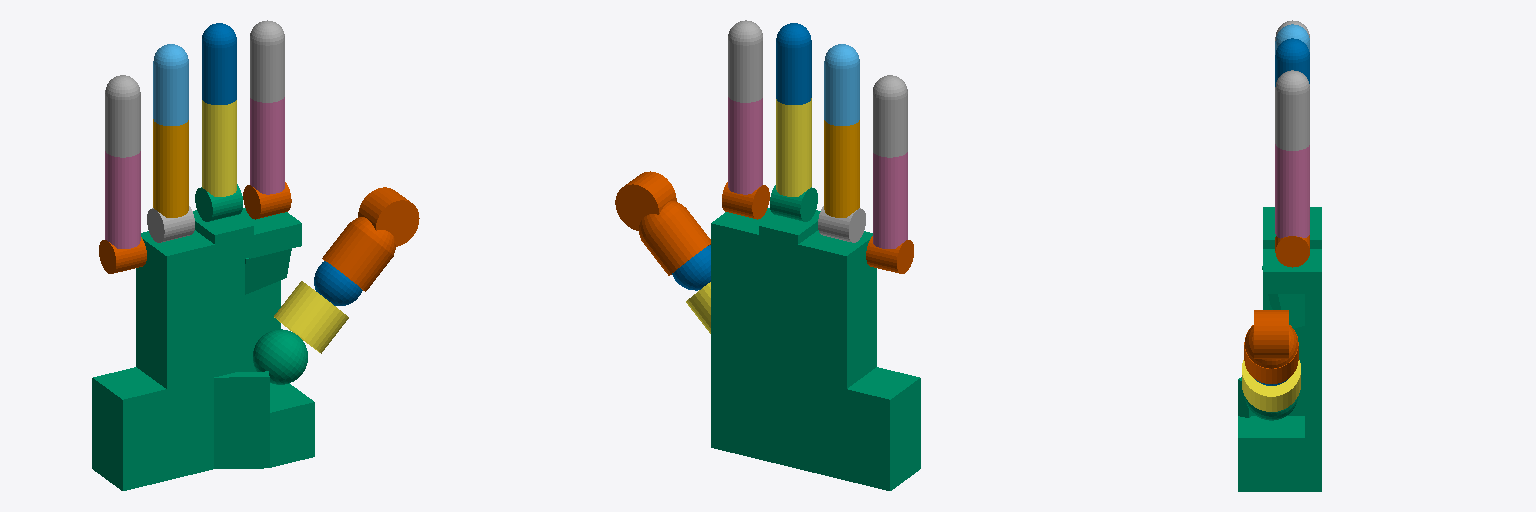
--- Render facts (derived) ---
3 views of the same robot in one strip: view 1: azimuth 30°, elevation 25°; view 2: azimuth 150°, elevation 25°; view 3: azimuth 270°, elevation 25° (orthographic).
Robot: bimanual_shadowhand_motor — 32 links, 31 joints (22 revolute, 9 fixed); root link world; default pose: every joint at zero.
Visible links, largest first — view 1: palm, thmiddle, rfproximal, lfproximal, mfproximal, ffproximal, thproximal, rfmiddle, lfmiddle, ffmiddle, mfmiddle, thbase (+5 smaller); view 2: palm, thmiddle, rfproximal, mfproximal, ffproximal, lfproximal, mfmiddle, rfmiddle, lfmiddle, ffmiddle, mfknuckle, lfknuckle (+4 smaller); view 3: palm, thmiddle, ffproximal, ffmiddle, thproximal, mfmiddle, ffknuckle.
Boxes of the visible links, bbox=[...] form: palm: bbox=[92, 208, 314, 490]; thmiddle: bbox=[322, 187, 419, 291]; rfproximal: bbox=[153, 119, 188, 217]; lfproximal: bbox=[105, 151, 140, 248]; mfproximal: bbox=[202, 100, 236, 196]; ffproximal: bbox=[250, 97, 284, 194]; thproximal: bbox=[274, 281, 348, 353]; rfmiddle: bbox=[153, 44, 188, 125]; lfmiddle: bbox=[105, 75, 140, 157]; ffmiddle: bbox=[250, 20, 284, 102]; mfmiddle: bbox=[202, 23, 236, 104]; thbase: bbox=[253, 329, 307, 384]; palm: bbox=[711, 208, 920, 490]; thmiddle: bbox=[615, 171, 710, 275]; rfproximal: bbox=[824, 120, 859, 217]; mfproximal: bbox=[776, 98, 811, 196]; ffproximal: bbox=[728, 97, 762, 194]; lfproximal: bbox=[873, 152, 907, 248]; mfmiddle: bbox=[776, 23, 811, 104]; rfmiddle: bbox=[824, 44, 859, 125]; lfmiddle: bbox=[873, 75, 907, 157]; ffmiddle: bbox=[728, 20, 762, 102]; mfknuckle: bbox=[770, 185, 817, 221]; lfknuckle: bbox=[866, 236, 913, 273]; palm: bbox=[1238, 207, 1321, 491]; thmiddle: bbox=[1244, 310, 1298, 383]; ffproximal: bbox=[1275, 144, 1309, 238]; ffmiddle: bbox=[1275, 70, 1309, 150]; thproximal: bbox=[1242, 360, 1300, 411]; mfmiddle: bbox=[1275, 38, 1309, 86]; ffknuckle: bbox=[1275, 235, 1309, 267].
Size in the robot's own frame: 0.1335 by 0.0343 by 0.187 metres.
Meshes: 3 distinct files referenced, 0 mesh visuals loaded (none loaded); not drawn: 6 (reference not matched to a file when rendering).

robot.urdf — bimanual_shadowhand_motor:
<?xml version="1.0" encoding="utf-8"?>
<!--
 Software License Agreement (BSD License)
 Copyright © 2022 belongs to Shadow Robot Company Ltd.
 All rights reserved.
 Redistribution and use in source and binary forms, with or without modification,
 are permitted provided that the following conditions are met:
   1. Redistributions of source code must retain the above copyright notice,
      this list of conditions and the following disclaimer.
   2. Redistributions in binary form must reproduce the above copyright notice,
      this list of conditions and the following disclaimer in the documentation
      and/or other materials provided with the distribution.
   3. Neither the name of Shadow Robot Company Ltd nor the names of its contributors
      may be used to endorse or promote products derived from this software without
      specific prior written permission.
 This software is provided by Shadow Robot Company Ltd "as is" and any express
 or implied warranties, including, but not limited to, the implied warranties of
 merchantability and fitness for a particular purpose are disclaimed. In no event
 shall the copyright holder be liable for any direct, indirect, incidental, special,
 exemplary, or consequential damages (including, but not limited to, procurement of
 substitute goods or services; loss of use, data, or profits; or business interruption)
 however caused and on any theory of liability, whether in contract, strict liability,
 or tort (including negligence or otherwise) arising in any way out of the use of this
 software, even if advised of the possibility of such damage.
-->
<robot name="bimanual_shadowhand_motor">
  <material name="Grey">
    <color rgba="0.2 0.2 0.2 1.0"/>
  </material>
  <material name="LightGrey">
    <color rgba="0.6 0.6 0.6 1.0"/>
  </material>
  <link name="world"/>
  <joint name="world_joint" type="fixed">
    <parent link="world"/>
    <child link="wrist"/>
    <origin rpy="0.0 0.0 0.0" xyz="0.0 0.0 0.0"/>
    <!-- <origin rpy="0.0 0.0 1.57079" xyz="0.0 0.0 0.0"/> -->
  </joint>
  <link name="wrist">
    <inertial>
      <origin rpy="0 0 0" xyz="0 0 0"/>
      <mass value="0.1"/>
      <inertia ixx="0.000035" ixy="0.0" ixz="0.0" iyy="0.000064" iyz="0.0" izz="0.0000438"/>
    </inertial>
    <visual>
      <origin rpy="0 0 0" xyz="0 0 0"/>
      <geometry name="wrist_visual">
        <mesh filename="meshes/visual/wrist/wrist_E3M5.dae" scale="0.001 0.001 0.001"/>
      </geometry>
      <material name="LightGrey"/>
    </visual>
    <collision>
      <origin rpy="1.5708 1.5708 0" xyz="0 0 0"/>
      <geometry name="wrist_collision_geom">
        <cylinder length="0.030" radius="0.0135"/>
      </geometry>
    </collision>
    <collision>
      <origin rpy="0 1.5708 0" xyz="-0.026 0 0.034"/>
      <geometry>
        <cylinder length="0.010" radius="0.011"/>
      </geometry>
    </collision>
    <collision>
      <origin rpy="0 1.5708 0" xyz="0.031 0 0.034"/>
      <geometry>
        <cylinder length="0.010" radius="0.011"/>
      </geometry>
    </collision>
    <collision>
      <origin rpy="0 0.7854 0" xyz="-0.021 0 0.011"/>
      <geometry>
        <box size="0.027 0.018 0.010"/>
      </geometry>
    </collision>
    <collision>
      <origin rpy="0 -0.7854 0" xyz="0.026 0 0.010"/>
      <geometry>
        <box size="0.027 0.018 0.010"/>
      </geometry>
    </collision>
  </link>
  

  <link name="palm">
    <inertial>
      <origin rpy="0 0 0" xyz="0 0 0.035"/>
      <mass value="0.3"/>
      <inertia ixx="0.0003581" ixy="0.0" ixz="0.0" iyy="0.0005287" iyz="0.0" izz="0.000191"/>
    </inertial>
    <!-- <visual>
      <origin rpy="1.5708 0 0" xyz="0 0 0"/>
      <geometry name="palm_visual">
        <mesh filename="meshes/visual/palm/palm_E3M5.dae" scale="0.001 0.001 0.001"/>
      </geometry>
      <material name="Grey"/>
    </visual> -->
    <visual>
      <origin rpy="0 0 0" xyz="0.011 0.0085 0.038"/>
      <geometry name="palm_collision_geom">
        <box size="0.062 0.007 0.098"/>
      </geometry>
    </visual>
    <visual>
      <origin rpy="0 0 0" xyz="-0.002 -0.0035 0.038"/>
      <geometry>
        <box size="0.036 0.017 0.098"/>
      </geometry>
    </visual>
    <!-- palm complement below first finger -->
    <visual>
      <origin rpy="0 0 0" xyz="0.029 -0.0035 0.082"/>
      <geometry>
        <box size="0.026 0.017 0.010"/>
      </geometry>
    </visual>
    <visual>
      <origin rpy="0.2 0 0.25" xyz="0.0265 -0.001 0.070"/>
      <geometry>
        <box size="0.026 0.014 0.018"/>
      </geometry>
    </visual>
    <!-- thumb pulp side -->
    <visual>
      <origin rpy="0 0 0" xyz="0.0315 -0.0085 0.001"/>
      <geometry>
        <box size="0.021 0.027 0.024"/>
      </geometry>
    </visual>
    <!-- thumb pulp central -->
    <visual>
      <origin rpy="0 0 -0.48" xyz="0.0125 -0.015 0.009"/>
      <geometry>
        <box size="0.022 0.005 0.040"/>
      </geometry>
    </visual>
    <!-- above middle finger-->
    <visual>
      <origin rpy="0 0 0" xyz="0.011 0 0.089"/>
      <geometry>
        <box size="0.018 0.024 0.004"/>
      </geometry>
    </visual>
    <!-- metacarpal side-->
    <visual>
      <origin rpy="0 0 0" xyz="-0.03 0 0.009"/>
      <geometry>
        <box size="0.020 0.024 0.040"/>
      </geometry>
    </visual>
  </link>

  <joint name="ee_fixed_joint" type="fixed">
    <parent link="palm"/>
    <child link="manipulator"/>
    <origin rpy="0.0 0.0 0.0" xyz="0.0 0.0 0.05"/>
  </joint>
  <link name="manipulator"/>
  <joint name="WRJ1" type="fixed">
    <parent link="wrist"/>
    <child link="palm"/>
    <origin rpy="0 0 0" xyz="0 0 0.034"/>
    <!-- <axis xyz="1 0 0"/> -->
    <!-- <limit effort="30" lower="-0.698000" upper="0.489000" velocity="2.0"/> -->
    <!-- <dynamics damping="0.1"/> -->
  </joint>
  <link name="imu"/>
  <joint name="palm_to_imu" type="fixed">
    <parent link="palm"/>
    <child link="imu"/>
    <origin rpy="-1.5707963 3.141592 0.0" xyz="0.01785 0.00765 0.049125"/>
  </joint>
  <link name="ffknuckle">
    <inertial>
      <origin rpy="0 0 0" xyz="0 0 0"/>
      <mass value="0.008"/>
      <inertia ixx="0.00000026" ixy="0.0" ixz="0.0" iyy="0.00000026" iyz="0.0" izz="0.00000032"/>
    </inertial>
    <!-- <visual>
      <origin rpy="0 0 0" xyz="0 0 0.0005"/>
      <geometry name="ffknuckle_visual">
        <mesh filename="meshes/visual/f_knuckle/f_knuckle_E3M5.dae" scale="0.001 0.001 0.001"/>
      </geometry>
      <material name="LightGrey"/>
    </visual> -->
    <visual>
      <origin rpy="0 1.5708 0" xyz="0 0 0"/>
      <geometry name="ffknuckle_collision_geom">
        <cylinder length="0.014" radius="0.007"/>
      </geometry>
    </visual>
  </link>
  <joint name="FFJ4" type="revolute">
    <parent link="palm"/>
    <child link="ffknuckle"/>
    <!--<origin xyz="0.033 0 0.095" rpy="0 0 0" />-->
    <origin rpy="0 0 0" xyz="0.033 0 0.095"/>
    <axis xyz="0 -1 0"/>
    <limit effort="2" lower="-0.349000" upper="0.349000" velocity="2.0"/>
    <dynamics damping="0.1"/>
  </joint>
  <link name="ffproximal">
    <inertial>
      <mass value="0.030"/>
      <origin xyz="0 0 0.0225"/>
      <inertia ixx="0.0000098" ixy="0.0" ixz="0.0" iyy="0.00001" iyz="0.0" izz="0.0000018"/>
    </inertial>
    <!-- <visual>
      <origin rpy="0 0 0" xyz="0 0 0"/>
      <geometry name="ffproximal_visual">
        <mesh filename="meshes/visual/f_proximal/f_proximal_E3M5.dae" scale="0.001 0.001 0.001"/>
      </geometry>
      <material name="Grey"/>
    </visual> -->
    <visual>
      <origin rpy="0 0 0" xyz="0 0 0.025"/>
      <geometry name="ffproximal_collision_geom">
        <cylinder length="0.040" radius="0.007"/>
      </geometry>
    </visual>
  </link>
  <joint name="FFJ3" type="revolute">
    <parent link="ffknuckle"/>
    <child link="ffproximal"/>
    <origin rpy="0 0 0" xyz="0 0 0"/>
    <axis xyz="1 0 0"/>
    <limit effort="2" lower="0.0" upper="1.571" velocity="2.0"/>
    <dynamics damping="0.1"/>
  </joint>
  <link name="ffmiddle">
    <inertial>
      <origin rpy="0 0 0" xyz="0 0 0.0125"/>
      <mass value="0.017"/>
      <inertia ixx="0.0000026" ixy="0.0" ixz="0.0" iyy="0.0000027" iyz="0.0" izz="0.00000087"/>
    </inertial>
    <!-- <visual>
      <origin rpy="0 0 0" xyz="0 0 0"/>
      <geometry name="ffmiddle_visual">
        <mesh filename="meshes/visual/f_middle/f_middle_E3M5.dae" scale="0.001 0.001 0.001"/>
      </geometry>
      <material name="Grey"/>
    </visual> -->
    <visual>
      <origin rpy="0 0 0" xyz="0 0 0.0125"/>
      <geometry name="ffmiddle_collision_geom">
        <cylinder length="0.025" radius="0.007"/>
      </geometry>
    </visual>
    <visual>
      <origin rpy="0 0 0" xyz="0 0 0.0"/>
      <geometry>
        <sphere radius="0.007"/>
      </geometry>
    </visual>
    <visual>
      <origin rpy="0 0 0" xyz="0 0 0.025"/>
      <geometry>
        <sphere radius="0.007"/>
      </geometry>
    </visual>
  </link>
  <joint name="FFJ2" type="revolute">
    <parent link="ffproximal"/>
    <child link="ffmiddle"/>
    <origin rpy="0 0 0" xyz="0 0 0.045"/>
    <axis xyz="1 0 0"/>
    <limit effort="2" lower="0" upper="1.571" velocity="2.0"/>
    <dynamics damping="0.1"/>
  </joint>
  <link name="ffdistal">
    <inertial>
      <mass value="0.012"/>
      <origin xyz="0 0 0.012"/>
      <inertia ixx="0.00000094" ixy="0.0" ixz="0.0" iyy="0.0000011" iyz="0.0" izz="0.00000053"/>
    </inertial>
    <!-- <visual>
      <origin rpy="1.5708 0 0" xyz="0 0 0"/>
      <geometry name="ffdistal_visual">
        <mesh filename="meshes/visual/f_distal/pst/f_distal_pst.dae" scale="0.001 0.001 0.001"/>
      </geometry>
    </visual> -->
    <visual>
      <origin rpy="0 0 0" xyz="0 0 0"/>
      <geometry name="ffdistal_collision_geom">
        <mesh filename="meshes/visual/f_distal/pst/f_distal_pst.dae" scale="0.001 0.001 0.001"/>
      </geometry>
    </visual>
  </link>
  <joint name="FFJ1" type="revolute">
    <parent link="ffmiddle"/>
    <child link="ffdistal"/>
    <origin rpy="0 0 0" xyz="0 0 0.025"/>
    <axis xyz="1 0 0"/>
    <!-- standard distal joint -->
    <limit effort="2" lower="0" upper="1.571" velocity="2.0"/>
    <dynamics damping="0.1"/>
  </joint>
  <link name="fftip">
    <inertial>
      <mass value="0.001"/>
      <inertia ixx="0.0" ixy="0.0" ixz="0.0" iyy="0.0" iyz="0.0" izz="0.0"/>
    </inertial>
  </link>
  <joint name="FFtip" type="fixed">
    <parent link="ffdistal"/>
    <child link="fftip"/>
    <origin rpy="0 0 0" xyz="0 0 0.026"/>
  </joint>
  <link name="mfknuckle">
    <inertial>
      <origin rpy="0 0 0" xyz="0 0 0"/>
      <mass value="0.008"/>
      <inertia ixx="0.00000026" ixy="0.0" ixz="0.0" iyy="0.00000026" iyz="0.0" izz="0.00000032"/>
    </inertial>
    <!-- <visual>
      <origin rpy="1.5708 0 0" xyz="0 0 0.0005"/>
      <geometry name="mfknuckle_visual">
        <mesh filename="meshes/visual/f_knuckle/f_knuckle_E3M5.dae" scale="0.001 0.001 0.001"/>
      </geometry>
      <material name="LightGrey"/>
    </visual> -->
    <visual>
      <origin rpy="0 1.5708 0" xyz="0 0 0"/>
      <geometry name="mfknuckle_collision_geom">
        <cylinder length="0.014" radius="0.007"/>
      </geometry>
    </visual>
  </link>
  <joint name="MFJ4" type="revolute">
    <parent link="palm"/>
    <child link="mfknuckle"/>
    <!--<origin xyz="0.033 0 0.095" rpy="0 0 0" />-->
    <origin rpy="0 0 0" xyz="0.011 0 0.099"/>
    <axis xyz="0 -1 0"/>
    <limit effort="2" lower="-0.349" upper="0.349" velocity="2.0"/>
    <dynamics damping="0.1"/>
  </joint>
  <link name="mfproximal">
    <inertial>
      <mass value="0.030"/>
      <origin xyz="0 0 0.0225"/>
      <inertia ixx="0.0000098" ixy="0.0" ixz="0.0" iyy="0.00001" iyz="0.0" izz="0.0000018"/>
    </inertial>
    <!-- <visual>
      <origin rpy="0 0 0" xyz="0 0 0"/>
      <geometry name="mfproximal_visual">
        <mesh filename="meshes/visual/f_proximal/f_proximal_E3M5.dae" scale="0.001 0.001 0.001"/>
      </geometry>
      <material name="Grey"/>
    </visual> -->
    <visual>
      <origin rpy="0 0 0" xyz="0 0 0.025"/>
      <geometry name="mfproximal_collision_geom">
        <cylinder length="0.040" radius="0.007"/>
      </geometry>
    </visual>
  </link>
  <joint name="MFJ3" type="revolute">
    <parent link="mfknuckle"/>
    <child link="mfproximal"/>
    <origin rpy="0 0 0" xyz="0 0 0"/>
    <axis xyz="1 0 0"/>
    <limit effort="2" lower="0.0" upper="1.571" velocity="2.0"/>
    <dynamics damping="0.1"/>
  </joint>
  <link name="mfmiddle">
    <inertial>
      <origin rpy="0 0 0" xyz="0 0 0.0125"/>
      <mass value="0.017"/>
      <inertia ixx="0.0000026" ixy="0.0" ixz="0.0" iyy="0.0000027" iyz="0.0" izz="0.00000087"/>
    </inertial>
    <!-- <visual>
      <origin rpy="0 0 0" xyz="0 0 0"/>
      <geometry name="mfmiddle_visual">
        <mesh filename="meshes/visual/f_middle/f_middle_E3M5.dae" scale="0.001 0.001 0.001"/>
      </geometry>
      <material name="Grey"/>
    </visual> -->
    <visual>
      <origin rpy="0 0 0" xyz="0 0 0.0125"/>
      <geometry name="mfmiddle_collision_geom">
        <cylinder length="0.025" radius="0.007"/>
      </geometry>
    </visual>
    <visual>
      <origin rpy="0 0 0" xyz="0 0 0.0"/>
      <geometry>
        <sphere radius="0.007"/>
      </geometry>
    </visual>
    <visual>
      <origin rpy="0 0 0" xyz="0 0 0.025"/>
      <geometry>
        <sphere radius="0.007"/>
      </geometry>
    </visual>
  </link>
  <joint name="MFJ2" type="revolute">
    <parent link="mfproximal"/>
    <child link="mfmiddle"/>
    <origin rpy="0 0 0" xyz="0 0 0.045"/>
    <axis xyz="1 0 0"/>
    <limit effort="2" lower="0" upper="1.571" velocity="2.0"/>
    <dynamics damping="0.1"/>
  </joint>
  <link name="mfdistal">
    <inertial>
      <mass value="0.012"/>
      <origin xyz="0 0 0.012"/>
      <inertia ixx="0.00000094" ixy="0.0" ixz="0.0" iyy="0.0000011" iyz="0.0" izz="0.00000053"/>
    </inertial>
    <!-- <visual>
      <origin rpy="1.5708 0 0" xyz="0 0 0"/>
      <geometry name="mfdistal_visual">
        <mesh filename="meshes/visual/f_distal/pst/f_distal_pst.dae" scale="0.001 0.001 0.001"/>
      </geometry>
    </visual> -->
    <visual>
      <origin rpy="0 0 0" xyz="0 0 0"/>
      <geometry name="mfdistal_collision_geom">
        <mesh filename="meshes/visual/f_distal/pst/f_distal_pst.dae" scale="0.001 0.001 0.001"/>
      </geometry>
    </visual>
  </link>
  <joint name="MFJ1" type="revolute">
    <parent link="mfmiddle"/>
    <child link="mfdistal"/>
    <origin rpy="0 0 0" xyz="0 0 0.025"/>
    <axis xyz="1 0 0"/>
    <!-- standard distal joint -->
    <limit effort="2" lower="0" upper="1.571" velocity="2.0"/>
    <dynamics damping="0.1"/>
  </joint>
  <gazebo reference="MFJ1">
    <provideFeedback>1</provideFeedback>
    <implicitSpringDamper>1</implicitSpringDamper>
  </gazebo>
  <link name="mftip">
    <inertial>
      <mass value="0.001"/>
      <inertia ixx="0.0" ixy="0.0" ixz="0.0" iyy="0.0" iyz="0.0" izz="0.0"/>
    </inertial>
  </link>
  <joint name="MFtip" type="fixed">
    <parent link="mfdistal"/>
    <child link="mftip"/>
    <origin rpy="0 0 0" xyz="0 0 0.026"/>
  </joint>
  <link name="rfknuckle">
    <inertial>
      <origin rpy="0 0 0" xyz="0 0 0"/>
      <mass value="0.008"/>
      <inertia ixx="0.00000026" ixy="0.0" ixz="0.0" iyy="0.00000026" iyz="0.0" izz="0.00000032"/>
    </inertial>
    <!-- <visual>
      <origin rpy="1.5708 0 0" xyz="0 0 0.0005"/>
      <geometry name="rfknuckle_visual">
        <mesh filename="meshes/visual/f_knuckle/f_knuckle_E3M5.dae" scale="0.001 0.001 0.001"/>
      </geometry>
      <material name="LightGrey"/>
    </visual> -->
    <visual>
      <origin rpy="0 1.5708 0" xyz="0 0 0"/>
      <geometry name="rfknuckle_collision_geom">
        <cylinder length="0.014" radius="0.007"/>
      </geometry>
    </visual>
  </link>
  <joint name="RFJ4" type="revolute">
    <parent link="palm"/>
    <child link="rfknuckle"/>
    <!--<origin xyz="0.033 0 0.095" rpy="0 0 0" />-->
    <origin rpy="0 0 0" xyz="-0.011 0 0.095"/>
    <axis xyz="0 1 0"/>
    <limit effort="2" lower="-0.349065850399" upper="0.349065850399" velocity="2.0"/>
    <dynamics damping="0.1"/>
  </joint>
  <link name="rfproximal">
    <inertial>
      <mass value="0.030"/>
      <origin xyz="0 0 0.0225"/>
      <inertia ixx="0.0000098" ixy="0.0" ixz="0.0" iyy="0.00001" iyz="0.0" izz="0.0000018"/>
    </inertial>
    <!-- <visual>
      <origin rpy="0 0 0" xyz="0 0 0"/>
      <geometry name="rfproximal_visual">
        <mesh filename="meshes/visual/f_proximal/f_proximal_E3M5.dae" scale="0.001 0.001 0.001"/>
      </geometry>
      <material name="Grey"/>
    </visual> -->
    <visual>
      <origin rpy="0 0 0" xyz="0 0 0.025"/>
      <geometry name="rfproximal_collision_geom">
        <cylinder length="0.040" radius="0.007"/>
      </geometry>
    </visual>
  </link>
  <joint name="RFJ3" type="revolute">
    <parent link="rfknuckle"/>
    <child link="rfproximal"/>
    <origin rpy="0 0 0" xyz="0 0 0"/>
    <axis xyz="1 0 0"/>
    <limit effort="2" lower="0.0" upper="1.571" velocity="2.0"/>
    <dynamics damping="0.1"/>
  </joint>
  <link name="rfmiddle">
    <inertial>
      <origin rpy="0 0 0" xyz="0 0 0.0125"/>
      <mass value="0.017"/>
      <inertia ixx="0.0000026" ixy="0.0" ixz="0.0" iyy="0.0000027" iyz="0.0" izz="0.00000087"/>
    </inertial>
    <!-- <visual>
      <origin rpy="0 0 0" xyz="0 0 0"/>
      <geometry name="rfmiddle_visual">
        <mesh filename="meshes/visual/f_middle/f_middle_E3M5.dae" scale="0.001 0.001 0.001"/>
      </geometry>
      <material name="Grey"/>
    </visual> -->
    <visual>
      <origin rpy="0 0 0" xyz="0 0 0.0125"/>
      <geometry name="rfmiddle_collision_geom">
        <cylinder length="0.025" radius="0.007"/>
      </geometry>
    </visual>
    <visual>
      <origin rpy="0 0 0" xyz="0 0 0.0"/>
      <geometry>
        <sphere radius="0.007"/>
      </geometry>
    </visual>
    <visual>
      <origin rpy="0 0 0" xyz="0 0 0.025"/>
      <geometry>
        <sphere radius="0.007"/>
      </geometry>
    </visual>
  </link>
  <joint name="RFJ2" type="revolute">
    <parent link="rfproximal"/>
    <child link="rfmiddle"/>
    <origin rpy="0 0 0" xyz="0 0 0.045"/>
    <axis xyz="1 0 0"/>
    <limit effort="2" lower="0" upper="1.571" velocity="2.0"/>
    <dynamics damping="0.1"/>
  </joint>
  <link name="rfdistal">
    <inertial>
      <mass value="0.012"/>
      <origin xyz="0 0 0.012"/>
      <inertia ixx="0.00000094" ixy="0.0" ixz="0.0" iyy="0.0000011" iyz="0.0" izz="0.00000053"/>
    </inertial>
    <!-- <visual>
      <origin rpy="1.5708 0 0" xyz="0 0 0"/>
      <geometry name="rfdistal_visual">
        <mesh filename="meshes/visual/f_distal/pst/f_distal_pst.dae" scale="0.001 0.001 0.001"/>
      </geometry>
    </visual> -->
    <visual>
      <origin rpy="0 0 0" xyz="0 0 0"/>
      <geometry name="rfdistal_collision_geom">
        <mesh filename="meshes/visual/f_distal/pst/f_distal_pst.dae" scale="0.001 0.001 0.001"/>
      </geometry>
    </visual>
  </link>
  <joint name="RFJ1" type="revolute">
    <parent link="rfmiddle"/>
    <child link="rfdistal"/>
    <origin rpy="0 0 0" xyz="0 0 0.025"/>
    <axis xyz="1 0 0"/>
    <!-- standard distal joint -->
    <limit effort="2" lower="0" upper="1.571" velocity="2.0"/>
    <dynamics damping="0.1"/>
  </joint>
  <link name="rftip">
    <inertial>
      <mass value="0.001"/>
      <inertia ixx="0.0" ixy="0.0" ixz="0.0" iyy="0.0" iyz="0.0" izz="0.0"/>
    </inertial>
  </link>
  <joint name="RFtip" type="fixed">
    <parent link="rfdistal"/>
    <child link="rftip"/>
    <origin rpy="0 0 0" xyz="0 0 0.026"/>
  </joint>
  <link name="lfmetacarpal">
    <inertial>
      <origin rpy="0 0 0" xyz="0.0317486764706 0 0.0223529411765"/>
      <mass value="0.030"/>
      <inertia ixx="0.0000145" ixy="0.0" ixz="0.0" iyy="0.00001638" iyz="0.0" izz="0.000004272"/>
    </inertial>
    <!-- <visual>
      <origin rpy="0 0.9599 0" xyz="0 0 0"/>
      <geometry name="lfmetacarpal_visual">
        <mesh filename="meshes/visual/lf_metacarpal/lf_metacarpal_E3M5.dae" scale="0.001 0.001 0.001"/>
      </geometry>
      <material name="Grey"/>
    </visual> -->
    <!-- <visual>
      <origin rpy="0 0 0" xyz="0.026986375 0 0.019"/>
      <geometry name="lfmetacarpal_collision_geom">
        <box size="0.018 0.024 0.040"/>
      </geometry>
    </visual> -->
  </link>
  <joint name="LFJ5" type="revolute">
    <parent link="palm"/>
    <child link="lfmetacarpal"/>
    <origin rpy="0 0 0" xyz="-0.033 0 0.02071"/>
    <axis xyz="0.573576436 0 0.819152044"/> 
    <limit effort="2" lower="0" upper="0.785" velocity="2.0"/> 
    <dynamics damping="0.1"/>
  </joint>
  <link name="lfknuckle">
    <inertial>
      <origin rpy="0 0 0" xyz="0 0 0"/>
      <mass value="0.008"/>
      <inertia ixx="0.00000026" ixy="0.0" ixz="0.0" iyy="0.00000026" iyz="0.0" izz="0.00000032"/>
    </inertial>
    <!-- <visual>
      <origin rpy="0 0 0" xyz="0 0 0.0005"/>
      <geometry name="lfknuckle_visual">
        <mesh filename="meshes/visual/f_knuckle/f_knuckle_E3M5.dae" scale="0.001 0.001 0.001"/>
      </geometry>
      <material name="LightGrey"/>
    </visual> -->
    <visual>
      <origin rpy="0 1.5708 0" xyz="0 0 0"/>
      <geometry name="lfknuckle_collision_geom">
        <cylinder length="0.014" radius="0.007"/>
      </geometry>
    </visual>
  </link>
  <joint name="LFJ4" type="revolute">
    <parent link="lfmetacarpal"/>
    <child link="lfknuckle"/>
    <!--<origin xyz="0.033 0 0.095" rpy="0 0 0" />-->
   <origin rpy="0 0 0" xyz="0 0 0.06579"/>
    <axis xyz="0 1 0"/>
    <limit effort="2" lower="-0.349" upper="0.349" velocity="2.0"/>
    <dynamics damping="0.1"/>
  </joint>
  <link name="lfproximal">
    <inertial>
      <mass value="0.030"/>
      <origin xyz="0 0 0.0225"/>
      <inertia ixx="0.0000098" ixy="0.0" ixz="0.0" iyy="0.00001" iyz="0.0" izz="0.0000018"/>
    </inertial>
    <!-- <visual>
      <origin rpy="0 0 0" xyz="0 0 0"/>
      <geometry name="lfproximal_visual">
        <mesh filename="meshes/visual/f_proximal/f_proximal_E3M5.dae" scale="0.001 0.001 0.001"/>
      </geometry>
      <material name="Grey"/>
    </visual> -->
    <visual>
      <origin rpy="0 0 0" xyz="0 0 0.025"/>
      <geometry name="lfproximal_collision_geom">
        <cylinder length="0.040" radius="0.007"/>
      </geometry>
    </visual>
  </link>
  <joint name="LFJ3" type="revolute">
    <parent link="lfknuckle"/>
    <child link="lfproximal"/>
    <origin rpy="0 0 0" xyz="0 0 0"/>
    <axis xyz="1 0 0"/>
    <limit effort="2" lower="0.0" upper="1.571" velocity="2.0"/>
    <dynamics damping="0.1"/>
  </joint>
  <link name="lfmiddle">
    <inertial>
      <origin rpy="0 0 0" xyz="0 0 0.0125"/>
      <mass value="0.017"/>
      <inertia ixx="0.0000026" ixy="0.0" ixz="0.0" iyy="0.0000027" iyz="0.0" izz="0.00000087"/>
    </inertial>
    <!-- <visual>
      <origin rpy="0 0 0" xyz="0 0 0"/>
      <geometry name="lfmiddle_visual">
        <mesh filename="meshes/visual/f_middle/f_middle_E3M5.dae" scale="0.001 0.001 0.001"/>
      </geometry>
      <material name="Grey"/>
    </visual> -->
    <visual>
      <origin rpy="0 0 0" xyz="0 0 0.0125"/>
      <geometry name="lfmiddle_collision_geom">
        <cylinder length="0.025" radius="0.007"/>
      </geometry>
    </visual>
    <visual>
      <origin rpy="0 0 0" xyz="0 0 0.0"/>
      <geometry>
        <sphere radius="0.007"/>
      </geometry>
    </visual>
    <visual>
      <origin rpy="0 0 0" xyz="0 0 0.025"/>
      <geometry>
        <sphere radius="0.007"/>
      </geometry>
    </visual>
  </link>
  <joint name="LFJ2" type="revolute">
    <parent link="lfproximal"/>
    <child link="lfmiddle"/>
    <origin rpy="0 0 0" xyz="0 0 0.045"/>
    <axis xyz="1 0 0"/>
    <limit effort="2" lower="0" upper="1.571" velocity="2.0"/>
    <dynamics damping="0.1"/>
  </joint>
  <link name="lfdistal">
    <inertial>
      <mass value="0.012"/>
      <origin xyz="0 0 0.012"/>
      <inertia ixx="0.00000094" ixy="0.0" ixz="0.0" iyy="0.0000011" iyz="0.0" izz="0.00000053"/>
    </inertial>
    <!-- <visual>
      <origin rpy="1.5708 0 0" xyz="0 0 0"/>
      <geometry name="lfdistal_visual">
        <mesh filename="meshes/visual/f_distal/pst/f_distal_pst.dae" scale="0.001 0.001 0.001"/>
      </geometry>
    </visual> -->
    <visual>
      <origin rpy="0 0 0" xyz="0 0 0"/>
      <geometry name="lfdistal_collision_geom">
        <mesh filename="meshes/visual/f_distal/pst/f_distal_pst.dae" scale="0.001 0.001 0.001"/>
      </geometry>
    </visual>
  </link>
  <joint name="LFJ1" type="revolute">
    <parent link="lfmiddle"/>
    <child link="lfdistal"/>
    <origin rpy="0 0 0" xyz="0 0 0.025"/>
    <axis xyz="1 0 0"/>
    <!-- standard distal joint -->
    <limit effort="2" lower="0" upper="1.571" velocity="2.0"/>
    <dynamics damping="0.1"/>
  </joint>
  <link name="lftip">
    <inertial>
      <mass value="0.001"/>
      <inertia ixx="0.0" ixy="0.0" ixz="0.0" iyy="0.0" iyz="0.0" izz="0.0"/>
    </inertial>
  </link>
  <joint name="LFtip" type="fixed">
    <parent link="lfdistal"/>
    <child link="lftip"/>
    <origin rpy="0 0 0" xyz="0 0 0.026"/>
  </joint>
  <link name="thbase">
    <inertial>
      <mass value="0.010"/>
      <origin rpy="0 0 0" xyz="0 0 0"/>
      <inertia ixx="0.00000016" ixy="0.0" ixz="0.0" iyy="0.00000016" iyz="0.0" izz="0.00000016"/>
    </inertial>
    <!-- <visual>
      <origin rpy="0 0 0" xyz="0 0 0"/>
      <geometry name="thbase_visual">
        <box size="0.001 0.001 0.001"/>
      </geometry>
      <material name="shadow_thbase_material">
        <color rgba="0.5 0.5 0.5 1.0"/>
      </material>
    </visual> -->
    <visual>
      <origin rpy="0 0 0" xyz="0 0 0"/>
      <geometry name="thbase_collision_geom">
        <sphere radius="0.011"/>
      </geometry>
    </visual>
  </link>
  <joint name="THJ5" type="revolute">
    <parent link="palm"/>
    <child link="thbase"/>
    <origin rpy="-0.785398163397 0 -1.57079632679" xyz="0.034 -0.00858 0.029"/>
    <axis xyz="0 0 -1"/>
    <limit effort="5.0" lower="-1.047" upper="1.047" velocity="4.0"/>
    <dynamics damping="0.2"/>
  </joint>
  <link name="thproximal">
    <inertial>
      <mass value="0.040"/>
      <origin rpy="0 0 0" xyz="0 0 0.019"/>
      <inertia ixx="0.0000136" ixy="0.0" ixz="0.0" iyy="0.0000136" iyz="0.0" izz="0.00000313"/>
    </inertial>
    <!-- <visual>
      <origin rpy="0 0 1.57079632679" xyz="0 0 0"/>
      <geometry name="thproximal_visual">
        <mesh filename="meshes/visual/th_proximal/th_proximal_E3M5.dae" scale="0.001 0.001 0.001"/>
      </geometry>
      <material name="shadow_thproximal_material">
        <color rgba="0.2 0.2 0.2 1.0"/>
      </material>
    </visual> -->
    <visual>
      <origin rpy="0 0 0" xyz="0 0 0.020"/>
      <geometry name="thproximal_collision_geom">
        <cylinder length="0.018" radius="0.012"/>
      </geometry>
    </visual>
  </link>
  <joint name="THJ4" type="revolute">
    <parent link="thbase"/>
    <child link="thproximal"/>
    <origin rpy="0 0 0" xyz="0 0 0"/>
    <axis xyz="0 1 0"/>
    <limit effort="3" lower="0.0" upper="1.222" velocity="4.0"/>
    <dynamics damping="0.2"/>
  </joint>
  <link name="thhub">
    <inertial>
      <mass value="0.005"/>
      <origin rpy="0 0 0" xyz="0 0 0"/>
      <inertia ixx="0.000001" ixy="0.0" ixz="0.0" iyy="0.000001" iyz="0.0" izz="0.0000003"/>
    </inertial>
    <!-- <visual>
      <origin rpy="0 0 0" xyz="0 0 0"/>
      <geometry name="thhub_visual">
        <box size="0.001 0.001 0.001"/>
      </geometry>
      <material name="shadow_thhub_material">
        <color rgba="0.7 0.7 0.7 1.0"/>
      </material>
    </visual> -->
    <visual>
      <origin rpy="0 0 0" xyz="0 0 0"/>
      <geometry name="thhub_collision_geom">
        <sphere radius="0.010"/>
      </geometry>
    </visual>
  </link>
  <joint name="THJ3" type="revolute">
    <parent link="thproximal"/>
    <child link="thhub"/>
    <origin rpy="0 0 0" xyz="0 0 0.038"/>
    <axis xyz="0 1 0"/>
    <limit effort="2.0" lower="-0.209" upper="0.209" velocity="4.0"/>
    <dynamics damping="0.2"/>
  </joint>
  <link name="thmiddle">
    <inertial>
      <mass value="0.020"/>
      <origin rpy="0 0 0" xyz="0 0 0.016"/>
      <inertia ixx="0.0000051" ixy="0.0" ixz="0.0" iyy="0.0000051" iyz="0.0" izz="0.00000121"/>
    </inertial>
    <!-- <visual>
      <origin rpy="0 0 1.57079632679" xyz="0 0 0"/>
      <geometry name="thmiddle_visual">
        <mesh filename="meshes/visual/th_middle/th_middle_E3M5.dae" scale="0.001 0.001 0.001"/>
      </geometry>
      <material name="shadow_thmiddle_material">
        <color rgba="0.2 0.2 0.2 1.0"/>
      </material>
    </visual> -->
    <visual>
      <origin rpy="0 0 0" xyz="0 0 0.012"/>
      <geometry name="thmiddle_collision_geom">
        <cylinder length="0.018" radius="0.011"/>
      </geometry>
    </visual>
    <visual>
      <origin rpy="0 0 0" xyz="0 0 0.019"/>
      <geometry>
        <sphere radius="0.011"/>
      </geometry>
    </visual>
    <visual>
      <origin rpy="0 1.5708 0" xyz="0 0 0.032"/>
      <geometry>
        <cylinder length="0.014" radius="0.010"/>
      </geometry>
    </visual>
  </link>
  <joint name="THJ2" type="revolute">
    <parent link="thhub"/>
    <child link="thmiddle"/>
    <origin rpy="0 0 0" xyz="0 0 0"/>
    <axis xyz="1 0 0"/>
    <limit effort="2.0" lower="-0.524" upper="0.524" velocity="2.0"/>
    <dynamics damping="0.1"/>
  </joint>
  <!-- common -->
  <link name="thdistal">
    <inertial>
      <mass value="0.016"/>
      <origin rpy="0 0 0" xyz="0 0 0.01375"/>
      <inertia ixx="0.0000021" ixy="0.0" ixz="0.0" iyy="0.0000022" iyz="0.0" izz="0.000001"/>
    </inertial>
    <!-- <visual>
      <origin rpy="1.5708 0 0" xyz="0 0 0"/>
      <geometry name="thdistal_visual">
        <mesh filename="meshes/visual/th_distal/pst/th_distal_pst.dae" scale="0.001 0.001 0.001"/>
      </geometry>
      <material name="shadow_thmiddle_material">
        <color rgba="0.2 0.2 0.2 1.0"/>
      </material>
    </visual> -->
    <visual>
      <origin rpy="0 0 0" xyz="0 0 0"/>
      <geometry name="thmiddle_collision_geom">
        <mesh filename="meshes/visual/th_distal/pst/th_distal_pst.dae" scale="0.001 0.001 0.001"/>
      </geometry>
    </visual>
  </link>
  <joint name="THJ1" type="revolute">
    <parent link="thmiddle"/>
    <child link="thdistal"/>
    <origin rpy="0 0 0" xyz="0 0 0.032"/>
    <axis xyz="1 0 0"/>
    <limit effort="1.0" lower="0.0" upper="1.57079632679" velocity="4.0"/>
    <dynamics damping="0.2"/>
  </joint>
  <link name="thtip">
    <inertial>
      <mass value="0.001"/>
      <inertia ixx="0.0" ixy="0.0" ixz="0.0" iyy="0.0" iyz="0.0" izz="0.0"/>
    </inertial>
  </link>
  <joint name="thtip" type="fixed">
    <parent link="thdistal"/>
    <child link="thtip"/>
    <origin rpy="0 0 0" xyz="0 0 0.0275"/>
  </joint>
</robot>
